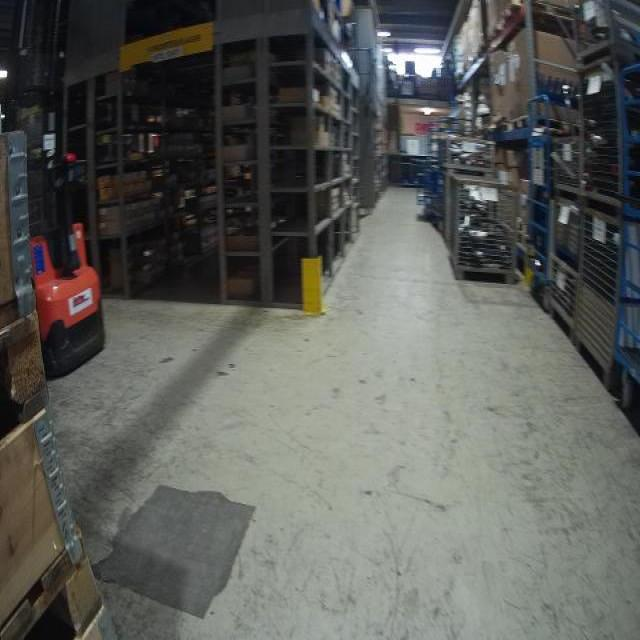pallet: (0, 529, 105, 640), (0, 310, 50, 445), (509, 116, 581, 134)
pallet_truck: (22, 5, 113, 396)
stillage: (570, 216, 631, 393), (575, 50, 633, 221), (447, 170, 524, 286), (434, 126, 501, 180), (578, 2, 639, 61), (546, 197, 582, 270), (548, 132, 585, 200), (545, 258, 575, 339)
